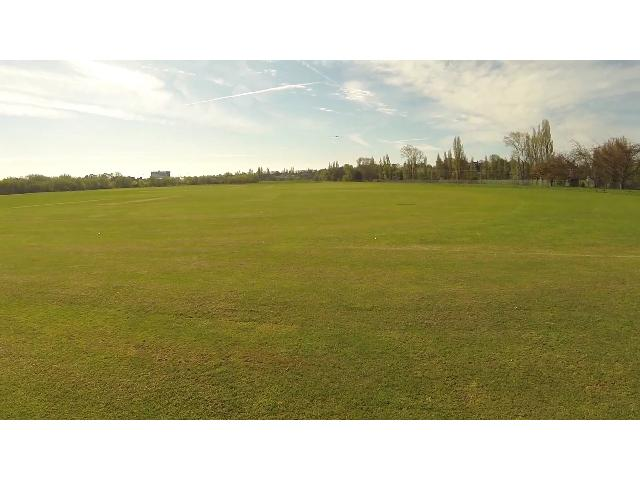Anti-Drone: (324, 130, 348, 140)
